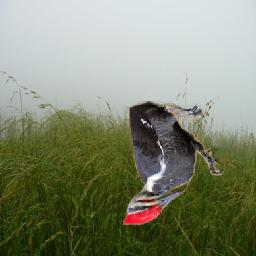Woodpecker: (124, 101, 225, 225)
